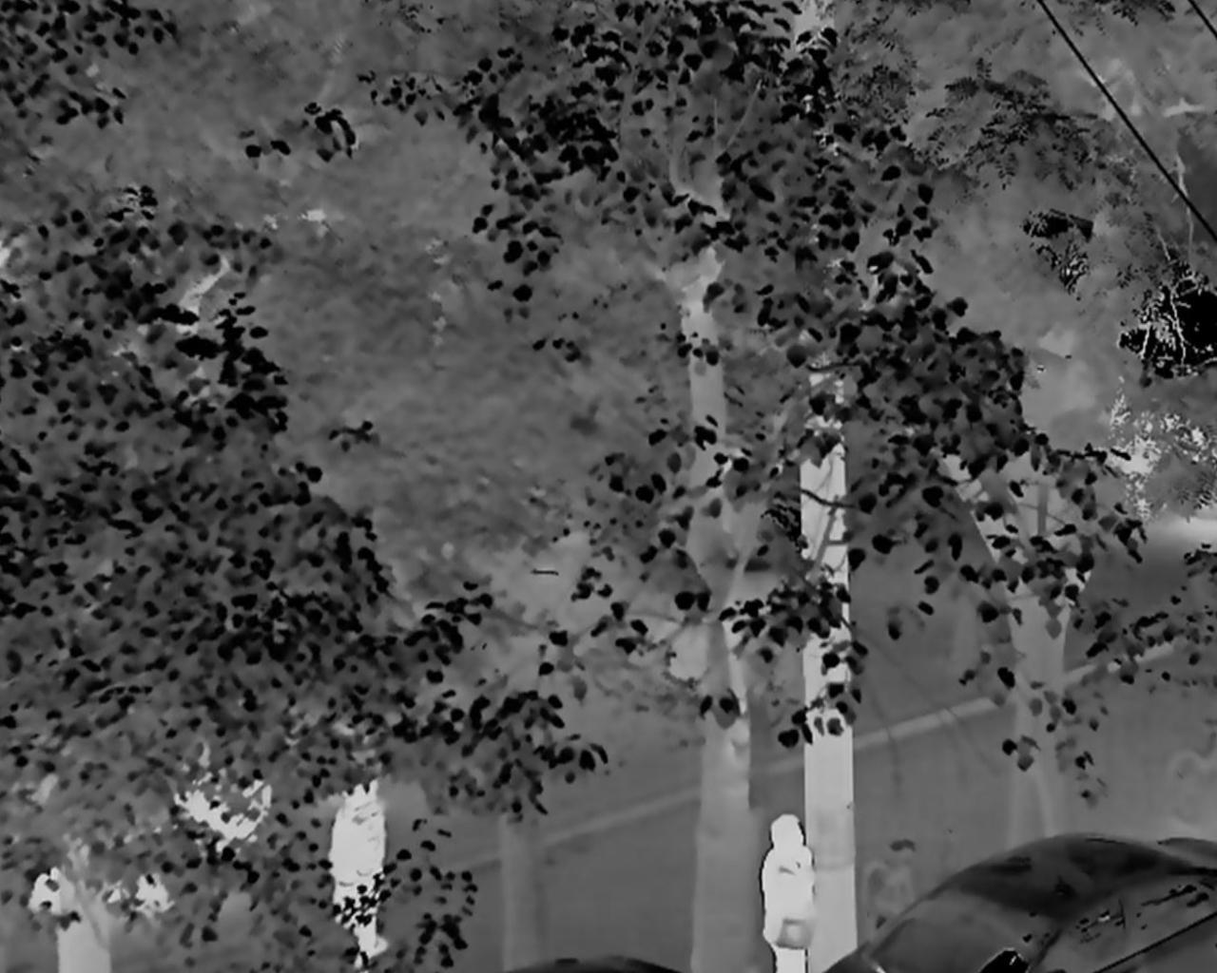person: (329, 756, 393, 969), (761, 816, 816, 973)
